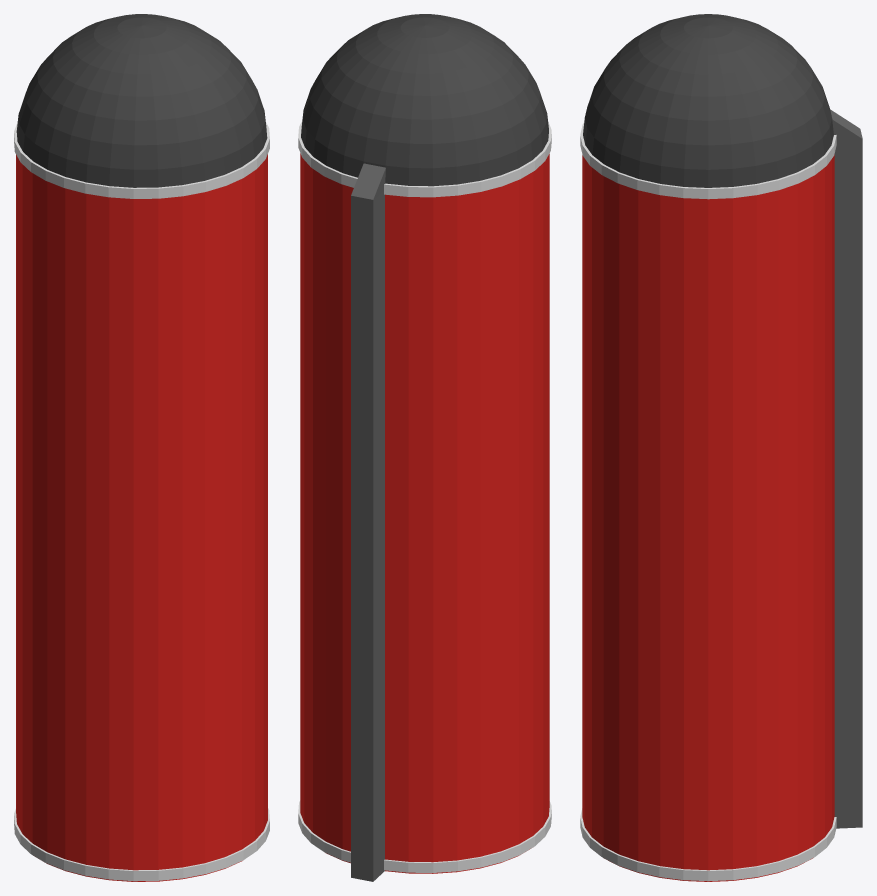
Rendered from Silo.fbx.
3 views of the same model, side by side, from view 1: azimuth 30°, elevation 25°; view 2: azimuth 150°, elevation 25°; view 3: azimuth 270°, elevation 25° (orthographic).
Parts seen in each view (by area): view 1: Cylinder, Sphere, Cylinder.001, Cylinder.002; view 2: Cylinder, Sphere, Cylinder.001, Cylinder.002; view 3: Cylinder, Sphere, Cylinder.001, Cylinder.002.
Boxes of the visible parts, x1,y1,x2,y2 form: Cylinder: (16,154,267,881); Sphere: (16,14,267,187); Cylinder.001: (14,122,269,198); Cylinder.002: (14,808,269,881); Cylinder: (300,153,549,881); Sphere: (301,14,548,186); Cylinder.001: (298,121,551,197); Cylinder.002: (298,800,551,872); Cylinder: (582,109,862,881); Sphere: (583,14,833,187); Cylinder.001: (580,122,836,199); Cylinder.002: (580,808,836,881).
Size of the model in its own units: 203 by 703 by 224.
